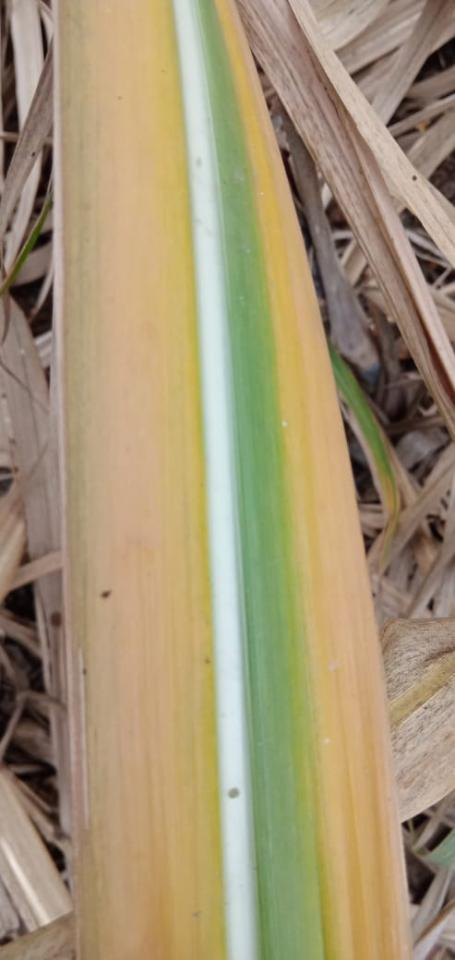Rust: (98, 586, 114, 600)
Yellow: (213, 0, 407, 959), (51, 0, 224, 959)
